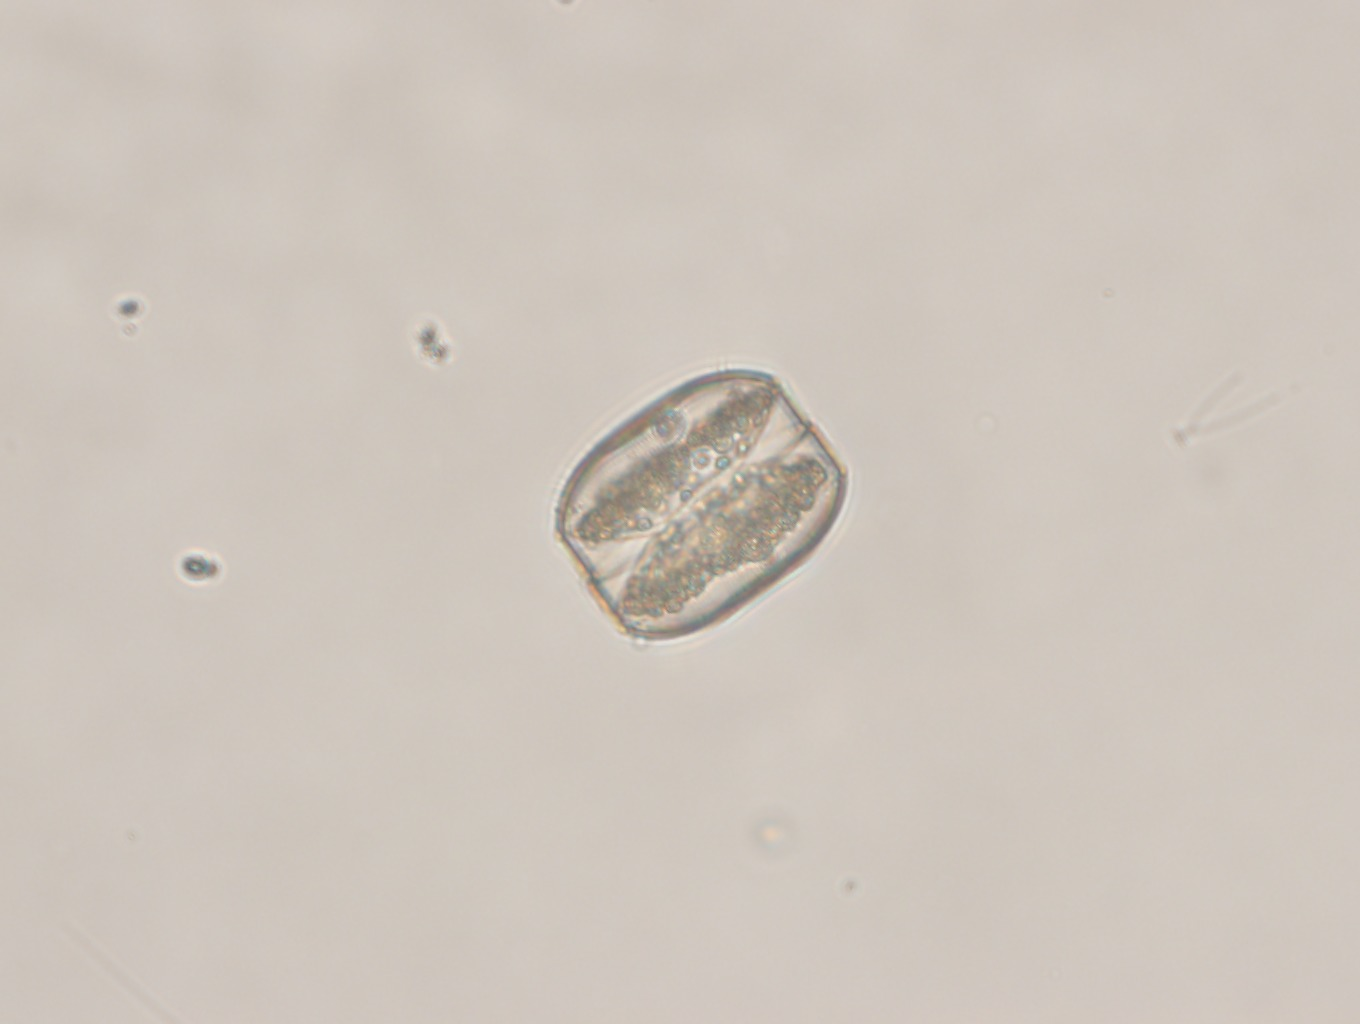coscinodiscus flank: (548, 365, 858, 652)
